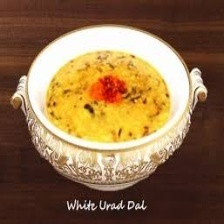dal: (43, 50, 171, 146)
